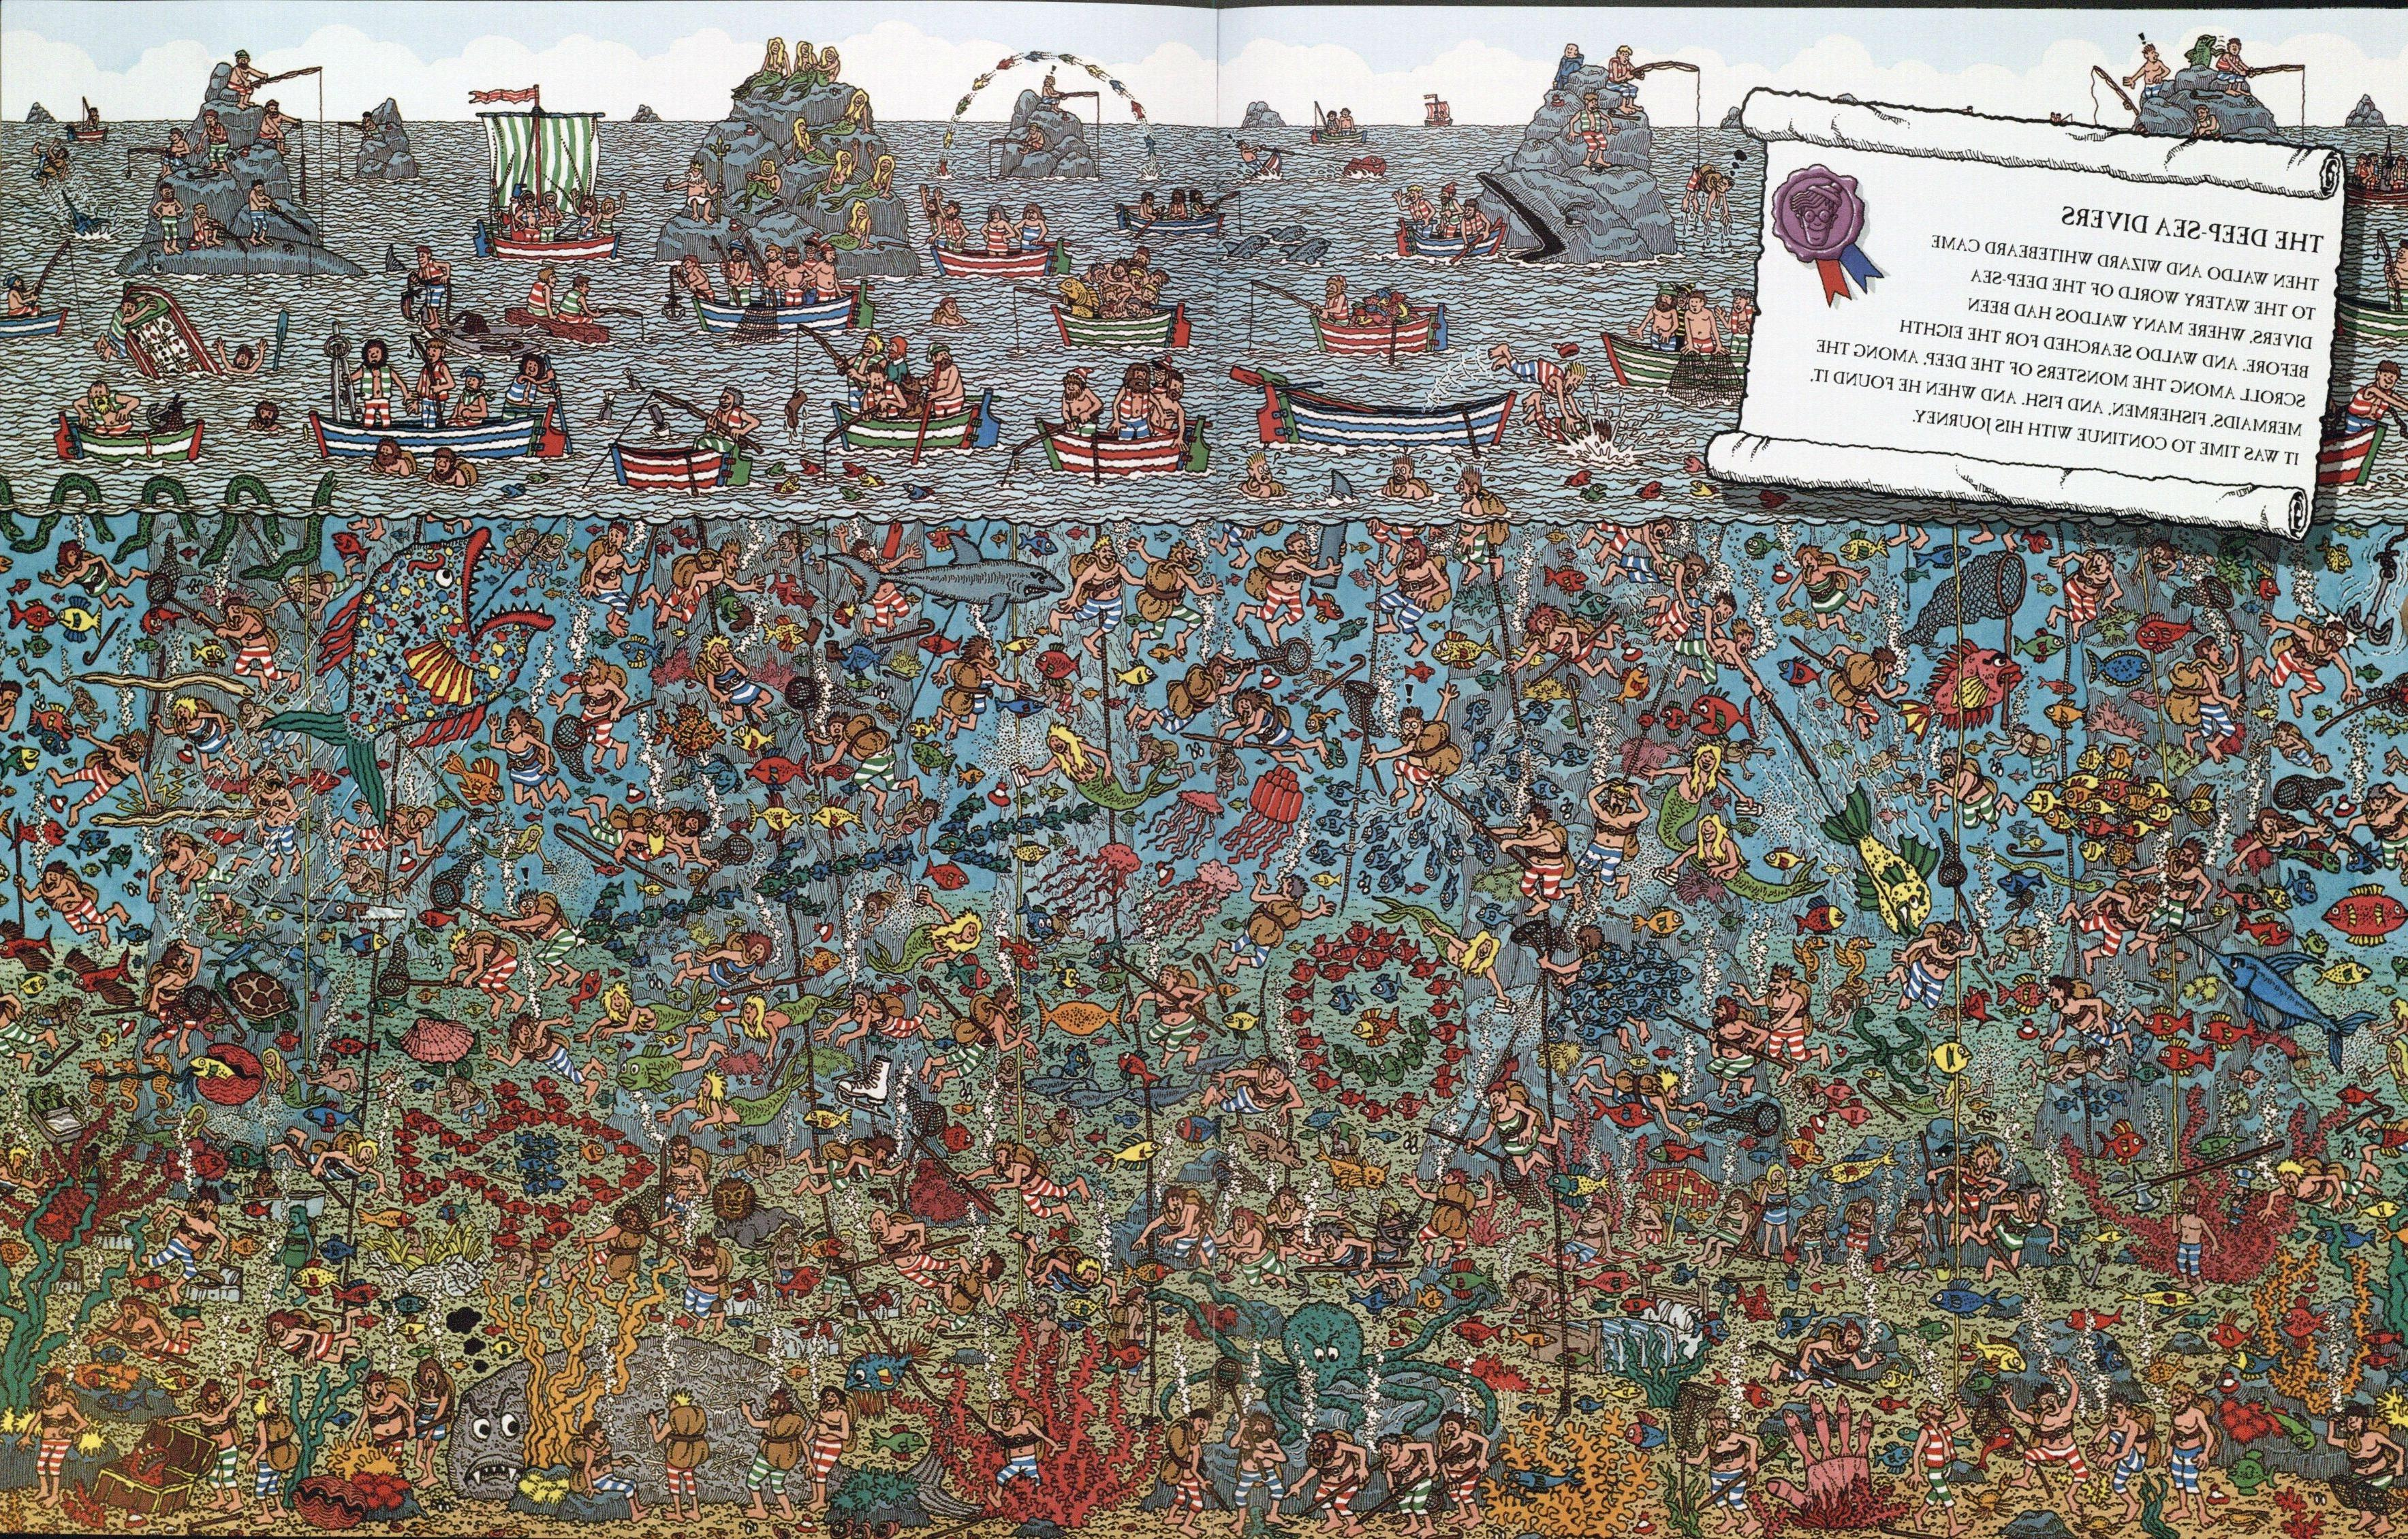waldos: (800, 230, 821, 270)
